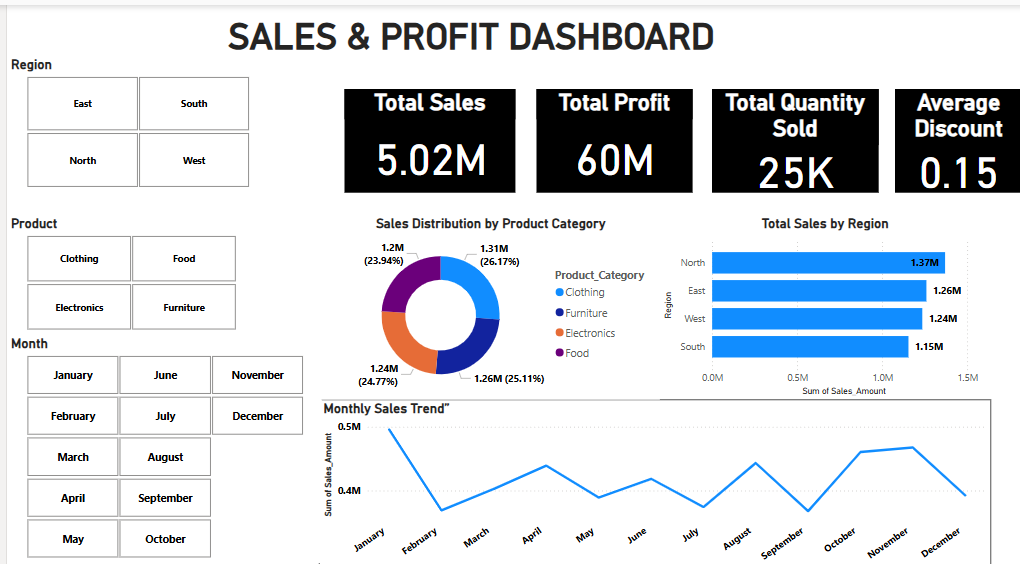

What the dashboard file says about the page in this screenshot:
{"tool":"powerbi","page":{"name":"Page 1","canvas":[1280,720],"ordinal":0},"visuals":[{"type":"card","title":"Total Sales","fields":{"Values":["Sum(sales_daatset (2).Sales_Amount)"]},"box":[425.2,105.8,215.4,130.4],"z":0},{"type":"card","title":"Total Profit","fields":{"Values":["Sum(sales_daatset (2).Profit)"]},"box":[667.1,105.8,196.5,130.4],"z":1000},{"type":"card","title":"Total Quantity Sold","fields":{"Values":["Sum(sales_daatset (2).Quantity_Sold)"]},"box":[888.2,105.8,209.8,130.4],"z":2000},{"type":"card","title":"Average Discount","fields":{"Values":["Avg(sales_daatset (2).Discount)"]},"box":[1118.7,105.8,160.6,130.4],"z":3000},{"type":"clusteredBarChart","title":"Total Sales by Region","fields":{"Category":["sales_daatset (2).Region"],"Y":["Sum(sales_daatset (2).Sales_Amount)"]},"box":[822.1,264.6,417.6,232.4],"z":4000},{"type":"lineChart","title":"Monthly Sales Trend”","fields":{"Y":["Sum(sales_daatset (2).Sales_Amount)"],"Category":["sales_daatset (2).Sale_Date.Variation.Date Hierarchy.Month"]},"box":[393.1,497,846.6,223],"z":5000},{"type":"donutChart","title":"Sales Distribution by Product Category","fields":{"Y":["Sum(sales_daatset (2).Sales_Amount)"],"Category":["sales_daatset (2).Product_Category"]},"box":[396.9,264.6,425.2,232.4],"z":6000},{"type":"slicer","title":"Product","fields":{"Values":["sales_daatset (2).Product_Category"]},"box":[0,264.6,311.8,151.2],"z":7000},{"type":"slicer","title":"Month","fields":{"Values":["sales_daatset (2).Sale_Date.Variation.Date Hierarchy.Month"]},"box":[0,415.8,396.9,287.2],"z":8000},{"type":"textbox","title":"SALES & PROFIT DASHBOARD","box":[51,13.2,1067.7,49.1],"z":10000},{"type":"slicer","title":"Region","fields":{"Values":["sales_daatset (2).Region"]},"box":[0,64.3,328.8,172],"z":10001}]}

Visuals, with their boxes in screenshot pixels (x1, y1, x2, y2), scaled from the page's 1280x720 canvas onto the 1020x564 screenshot:
"Total Sales" card: region(339, 83, 510, 185)
"Total Profit" card: region(532, 83, 688, 185)
"Total Quantity Sold" card: region(708, 83, 875, 185)
"Average Discount" card: region(891, 83, 1019, 185)
"Total Sales by Region" clusteredBarChart: region(655, 207, 988, 389)
"Monthly Sales Trend”" lineChart: region(313, 389, 988, 563)
"Sales Distribution by Product Category" donutChart: region(316, 207, 655, 389)
"Product" slicer: region(0, 207, 248, 326)
"Month" slicer: region(0, 326, 316, 551)
"SALES & PROFIT DASHBOARD" textbox: region(41, 10, 891, 49)
"Region" slicer: region(0, 50, 262, 185)
